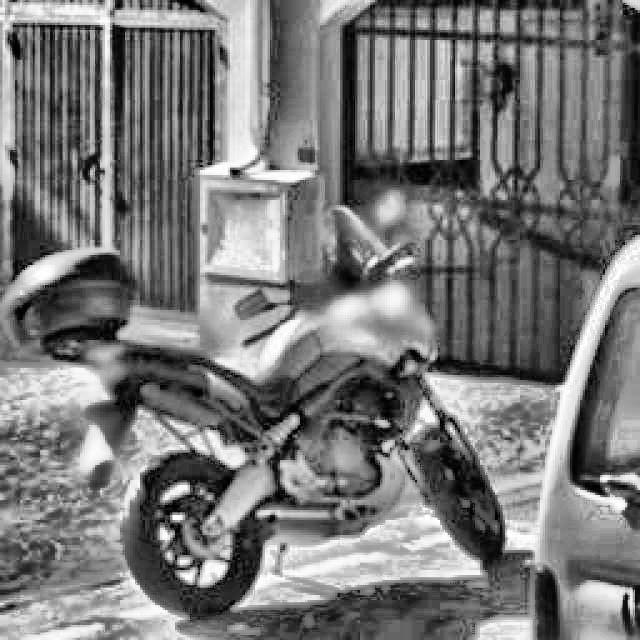motorcycle: (0, 188, 514, 620)
